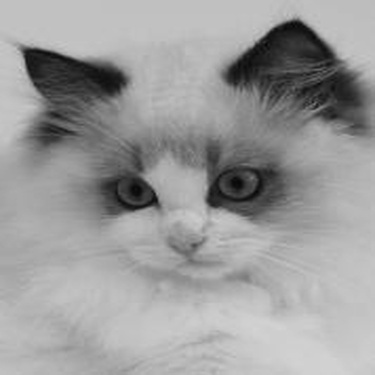cat: (6, 13, 367, 333)
